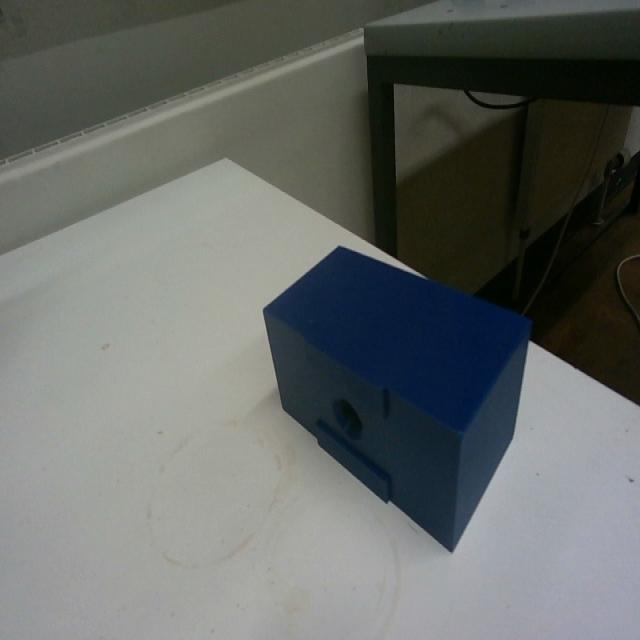Blue Cuboid: (260, 240, 534, 553)
